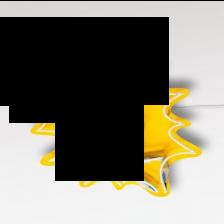yellow: (11, 36, 202, 196)
